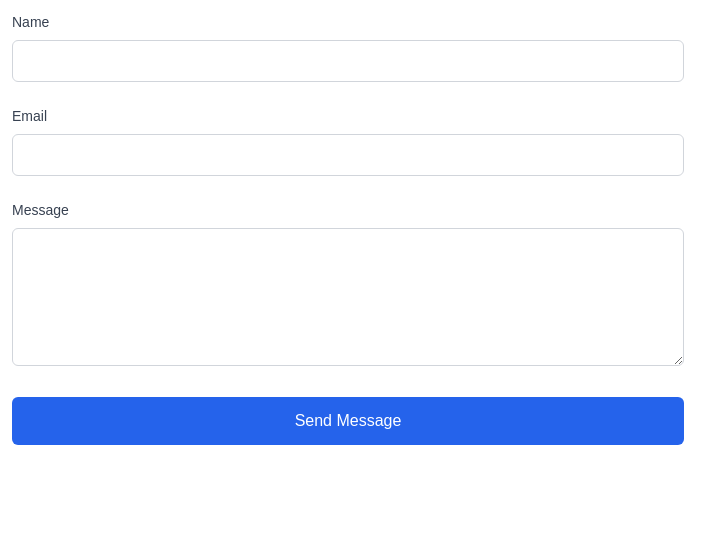
it: ContactForm Component › should display validation error when name is empty
What coordinates should you click on to do the following:
click the button "Send Message"
I would click on:
 (348, 421)
Its box is x1=12 y1=397 x2=684 y2=445.
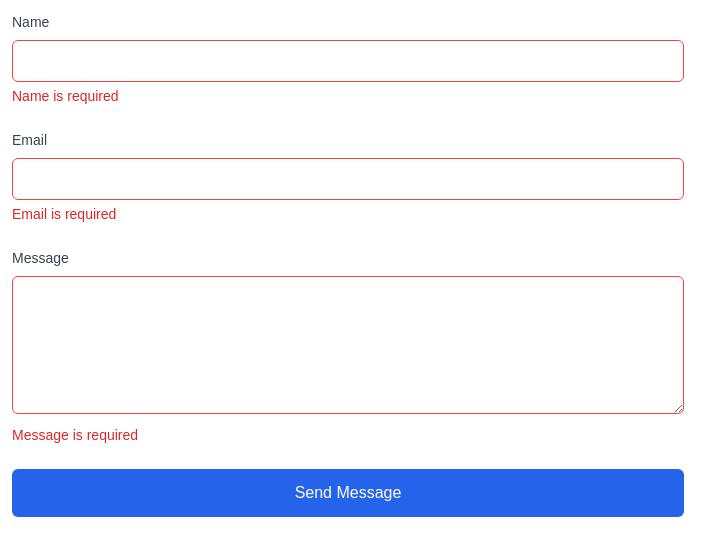
Expected: the text "Name is required" is shown, x1=12 y1=88 x2=119 y2=104
